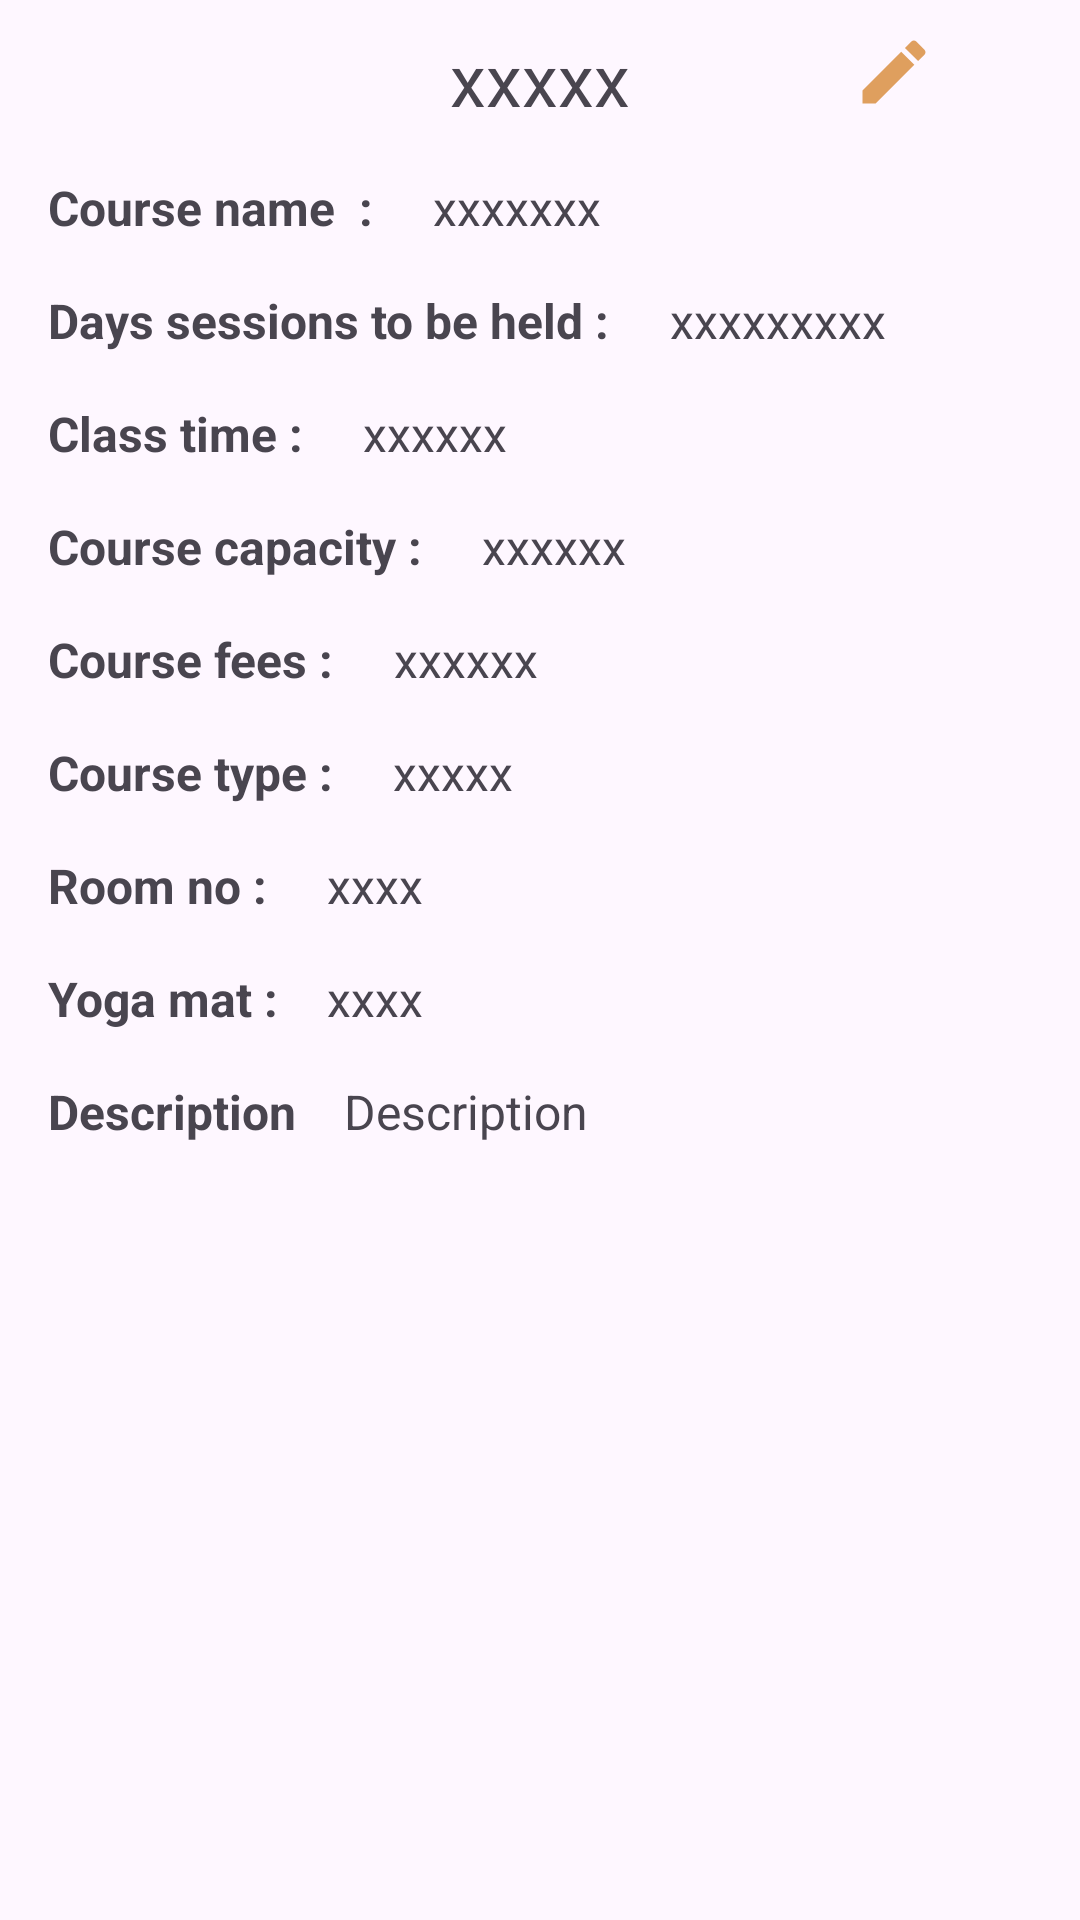

Icons on this 1080w x 1920h Android screen, each with the point to tap as (x=x, y=y):
edit: (x=894, y=72)
